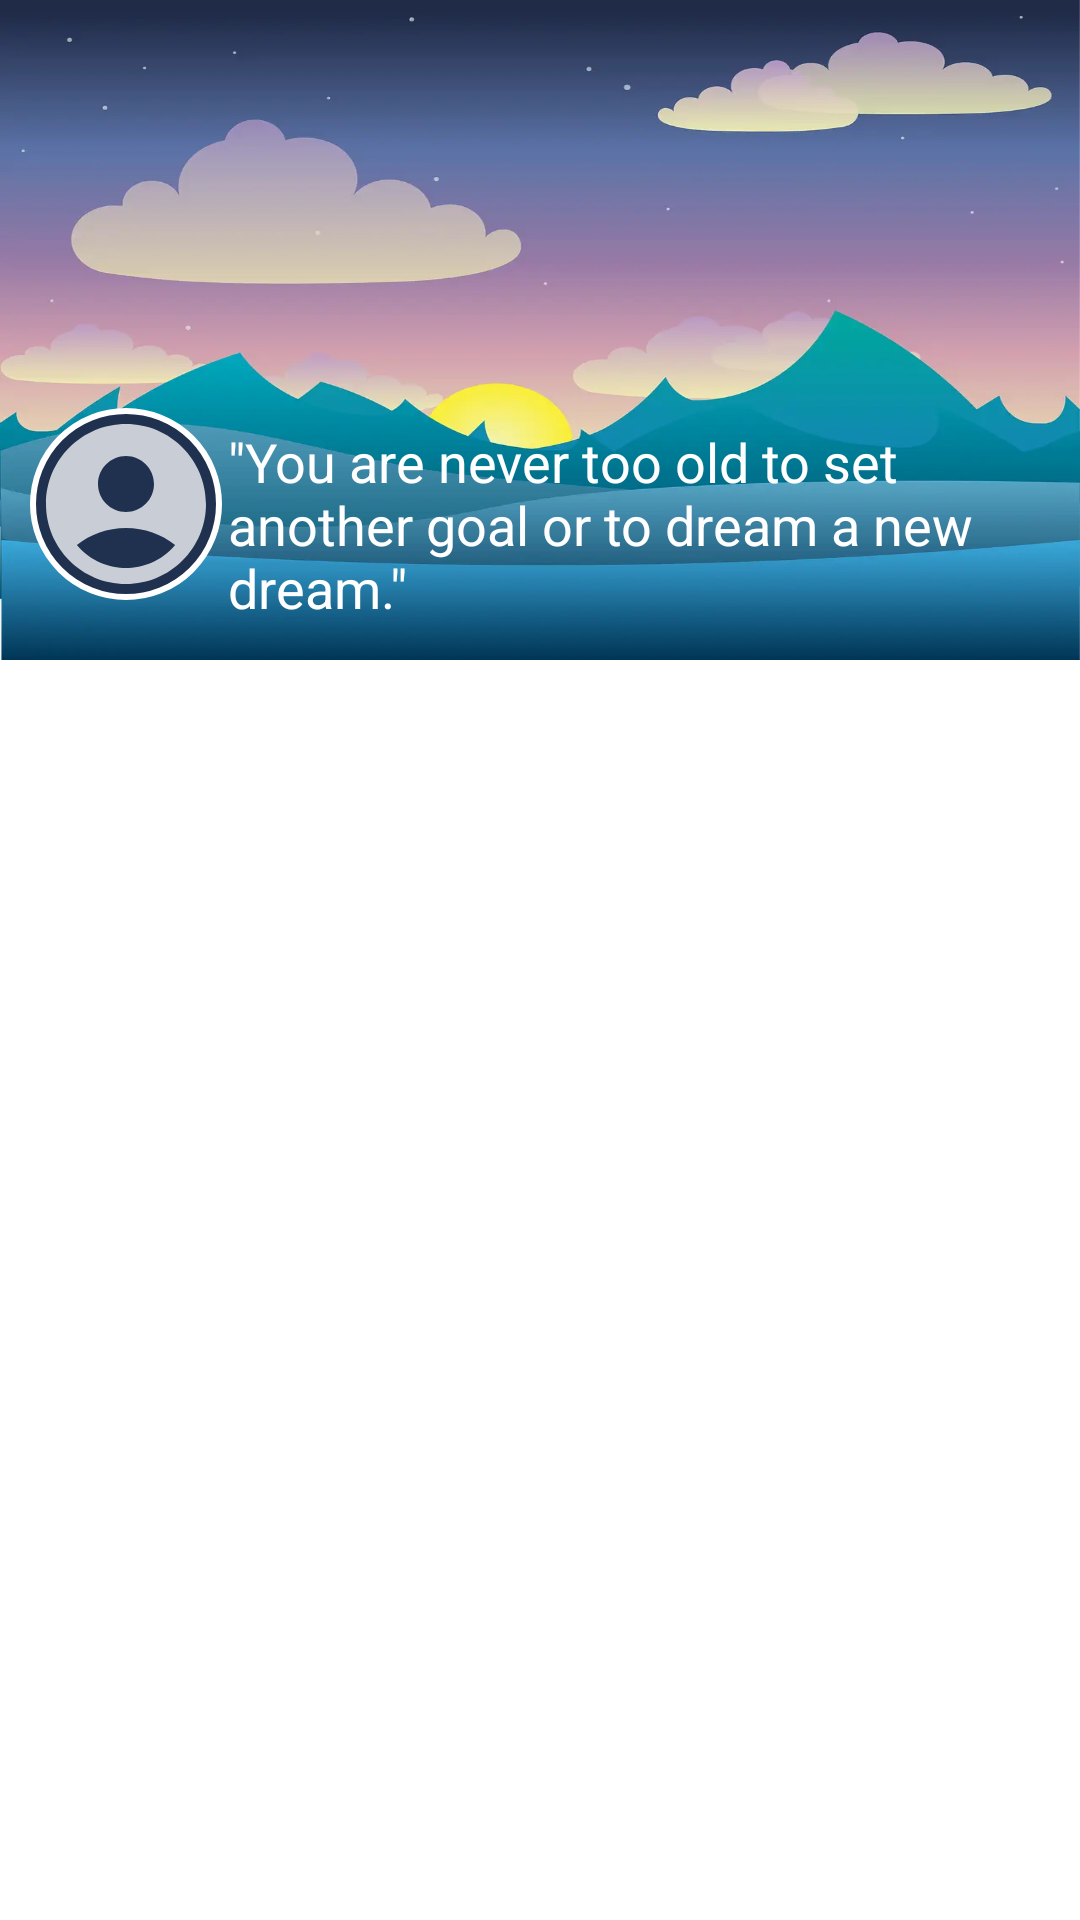

Named icons in this screenshot (1080w x 1920h) and their centers, [x,y]:
account circle: [126,504]
